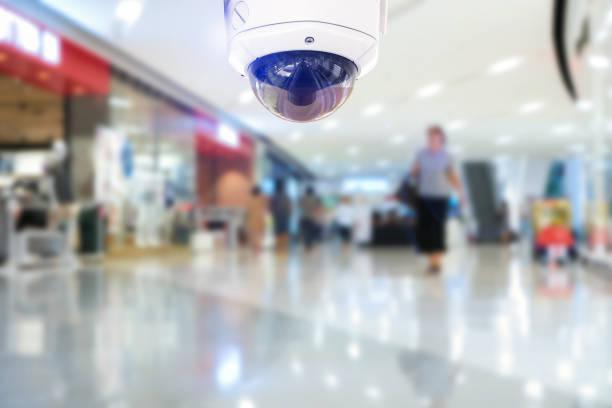camera: (213, 0, 397, 148)
